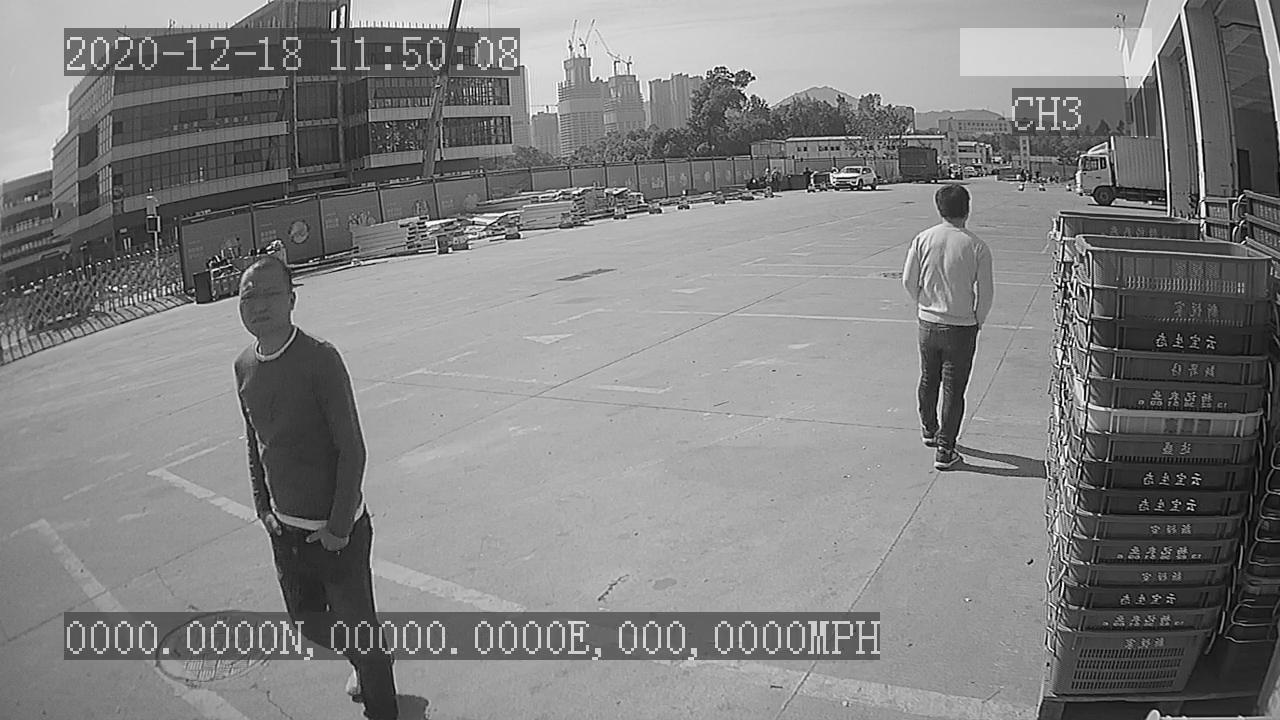person: (895, 181, 997, 477)
